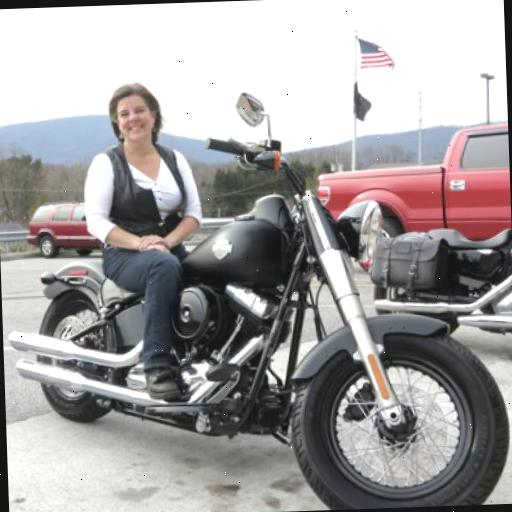no helmet: (76, 54, 504, 512)
